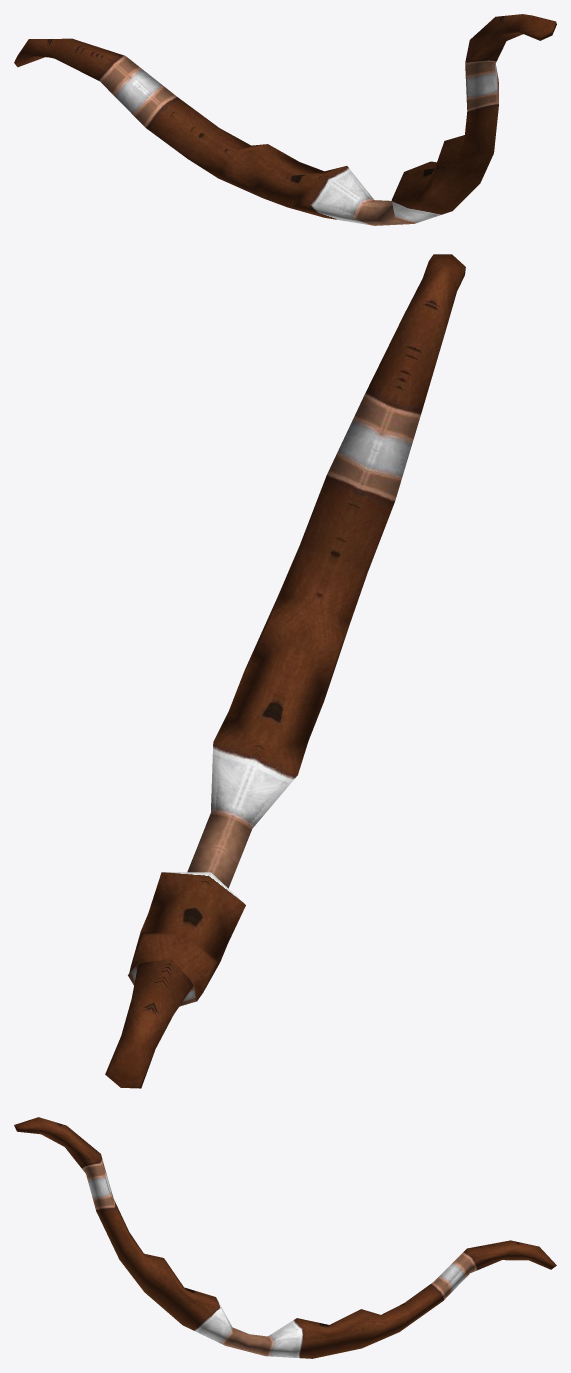
Rendered from bow-base.glb.
The picture shows the model from 3 angles, top to bottom: view 1: azimuth 30°, elevation 25°; view 2: azimuth 150°, elevation 25°; view 3: azimuth 270°, elevation 25°; orthographic projection. The views are drawn at different scales.
Size of the model in its own units: 0.3286 by 0.5719 by 1.16.
1 material, 1 textured.
